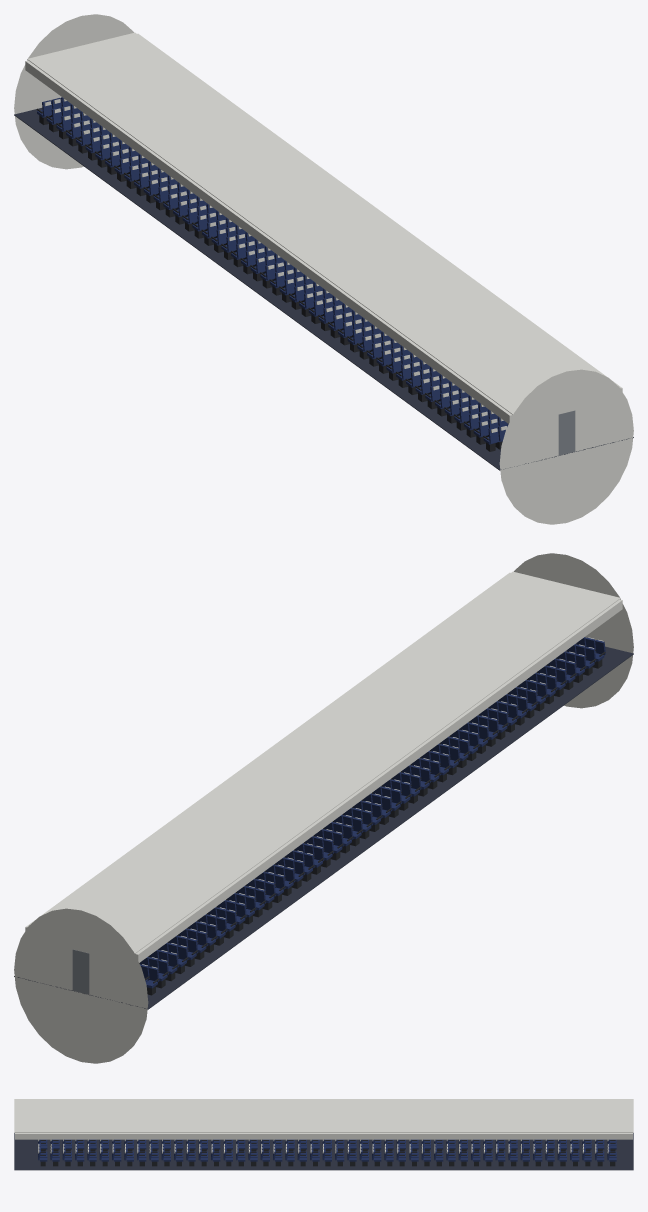
Rendered from lat_jumbo_cabin.dae.
3 views of the same model, one above another, from view 1: azimuth 30°, elevation 25°; view 2: azimuth 150°, elevation 25°; view 3: azimuth 270°, elevation 25° (orthographic). The views are drawn at different scales.
Visible parts, largest first — view 1: lat_jumbo_cabin64; view 2: lat_jumbo_cabin64; view 3: lat_jumbo_cabin64.
Boxes of the visible parts, <box> form: lat_jumbo_cabin64: <box>14,14,633,524</box>; lat_jumbo_cabin64: <box>14,553,633,1063</box>; lat_jumbo_cabin64: <box>14,1099,633,1170</box>.
Bounding box in the file's own units: 6.48 × 40.57 × 6.98.
